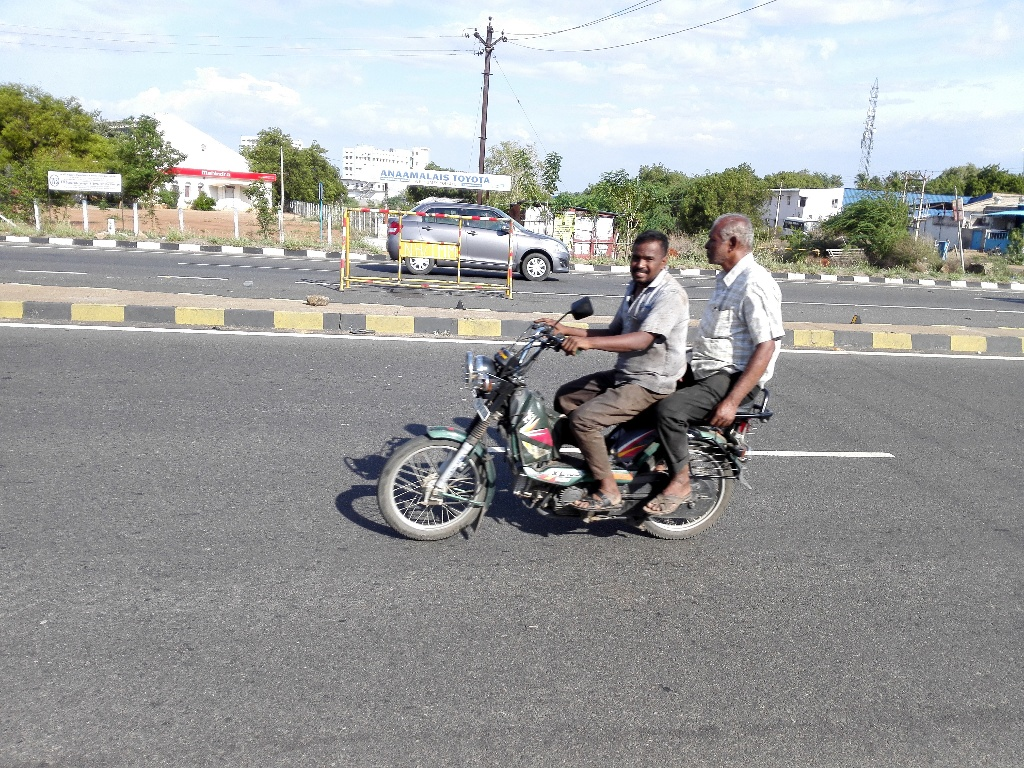biker: (365, 178, 811, 554)
nohelmet: (698, 205, 765, 273), (617, 222, 684, 290)
